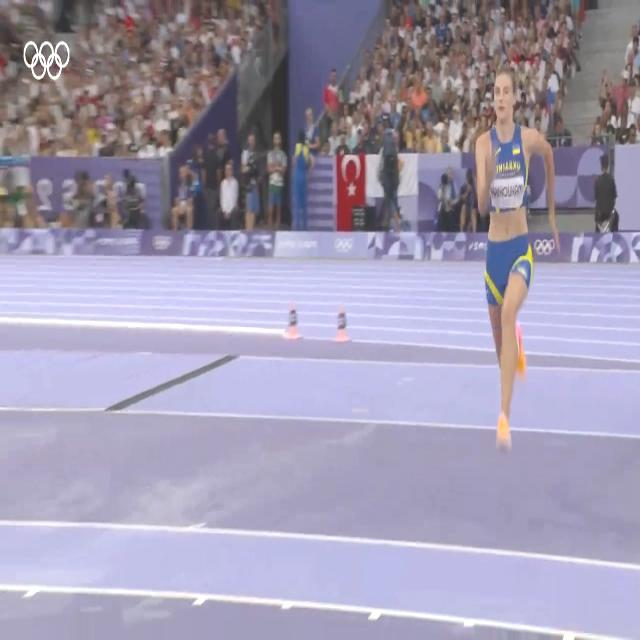run: (472, 63, 556, 453)
